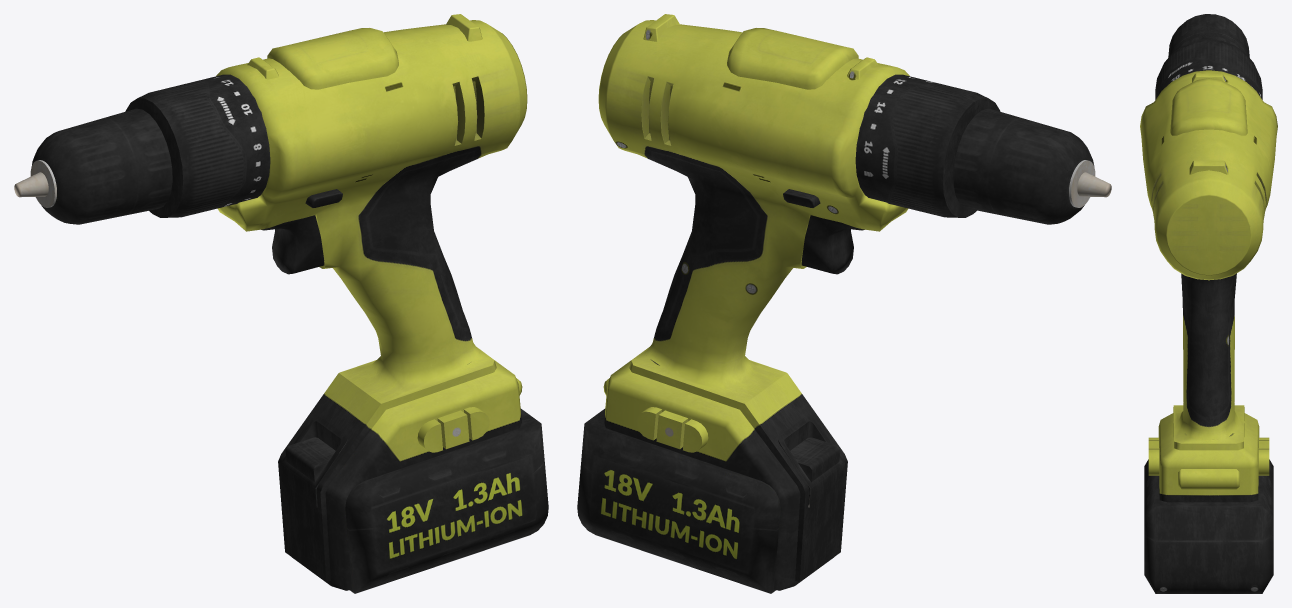
The model's file is drill.glb.
3 renders of one model, left to right at view 1: azimuth 30°, elevation 25°; view 2: azimuth 150°, elevation 25°; view 3: azimuth 270°, elevation 25°, orthographic. The views are drawn at different scales.
Visible parts, largest first — view 1: Drill_01; view 2: Drill_01; view 3: Drill_01.
Part boxes in pixels (bbox=[...]): Drill_01: bbox=[14, 14, 548, 593]; Drill_01: bbox=[577, 14, 1111, 593]; Drill_01: bbox=[1140, 14, 1277, 593].
Size of the model in its own units: 0.1829 by 0.1851 by 0.0524.
1 material, 1 textured.
